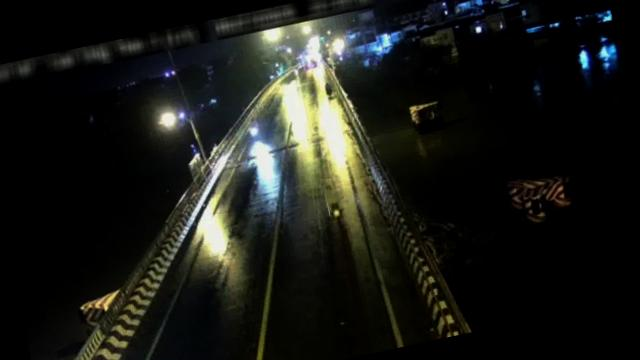Bike: (324, 181, 345, 218)
